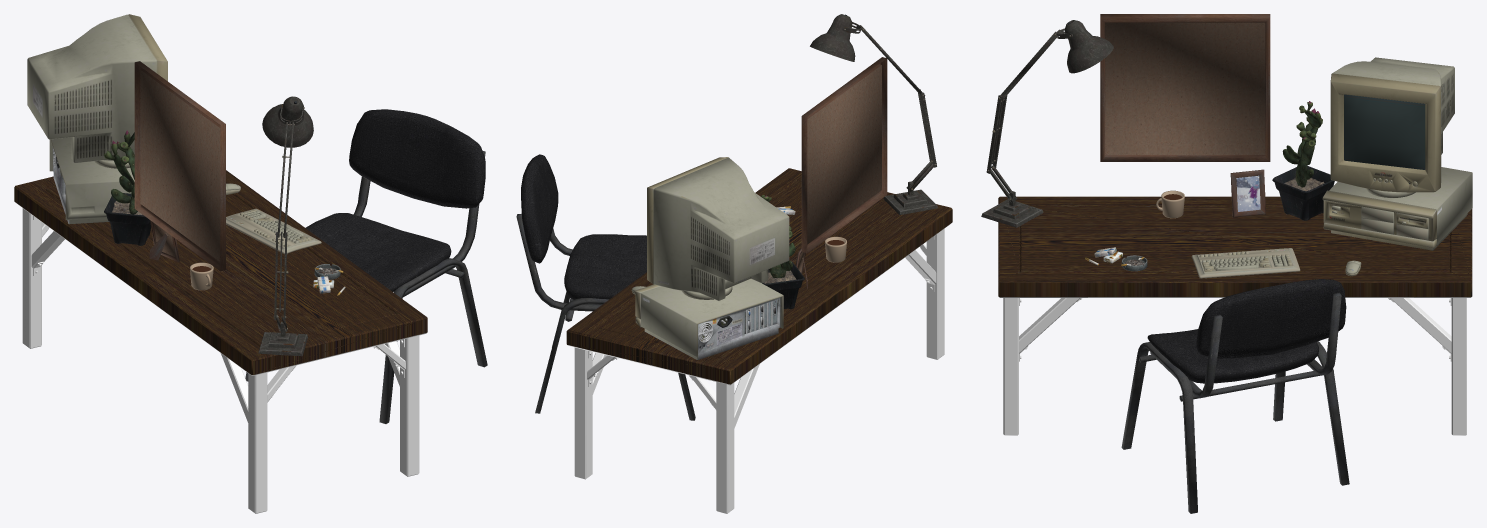
The model's file is desk_room_fixed.glb.
3 renders of one model, left to right at view 1: azimuth 30°, elevation 25°; view 2: azimuth 150°, elevation 25°; view 3: azimuth 270°, elevation 25°, orthographic. The views are drawn at different scales.
Parts seen in each view (by area): view 1: Table_Rough, Chair, PinBoard, Monitor, Computer, Keyboard, Lamp_Shade.001, Cactus_Pot, Cactus, Lamp01, PhotoFrame_10x15, Lamp02.002 (+1 smaller); view 2: Table_Rough, Monitor, PinBoard, Chair, Computer, Lamp_Shade.001, Lamp01, Cactus_Pot, Lamp02.002; view 3: Table_Rough, PinBoard, Chair, Monitor, Computer, Keyboard, Cactus_Pot, Lamp_Shade.001, PhotoFrame_10x15, Cactus, Lamp01, Lamp02.002.
Boxes of the visible parts, x1,y1,x2,y2 form: Table_Rough: (14, 170, 427, 513); Chair: (245, 109, 487, 423); PinBoard: (134, 61, 225, 271); Monitor: (27, 14, 167, 168); Computer: (49, 137, 134, 224); Keyboard: (226, 208, 321, 254); Lamp_Shade.001: (262, 96, 313, 147); Cactus_Pot: (104, 193, 150, 245); Cactus: (104, 130, 137, 214); Lamp01: (258, 321, 307, 356); PhotoFrame_10x15: (149, 220, 179, 262); Lamp02.002: (274, 231, 288, 320); Table_Rough: (566, 168, 952, 513); Monitor: (647, 157, 789, 300); PinBoard: (801, 57, 887, 252); Chair: (516, 154, 695, 420); Computer: (634, 279, 783, 359); Lamp_Shade.001: (810, 14, 855, 61); Lamp01: (883, 181, 937, 214); Cactus_Pot: (762, 262, 804, 309); Lamp02.002: (918, 89, 936, 167); Table_Rough: (998, 196, 1472, 435); PinBoard: (1100, 14, 1270, 161); Chair: (1121, 279, 1349, 513); Monitor: (1330, 57, 1454, 197); Computer: (1322, 167, 1472, 250); Keyboard: (1191, 248, 1300, 278); Cactus_Pot: (1272, 166, 1334, 220); Lamp_Shade.001: (1064, 20, 1113, 73); PhotoFrame_10x15: (1230, 169, 1265, 217); Cactus: (1282, 101, 1322, 187); Lamp01: (981, 191, 1043, 227); Lamp02.002: (986, 95, 1007, 173).
Bounding box in the file's own units: 1.75 × 1.74 × 2.09.
13 materials, 7 textured.
